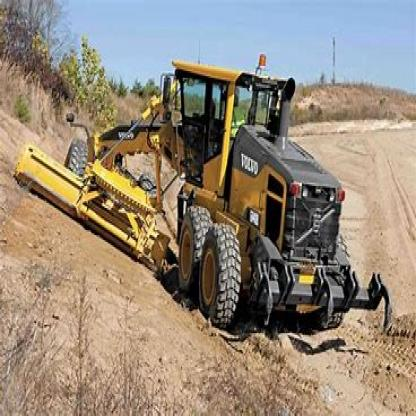bull_dozer/loader/grader: (23, 54, 375, 342)
